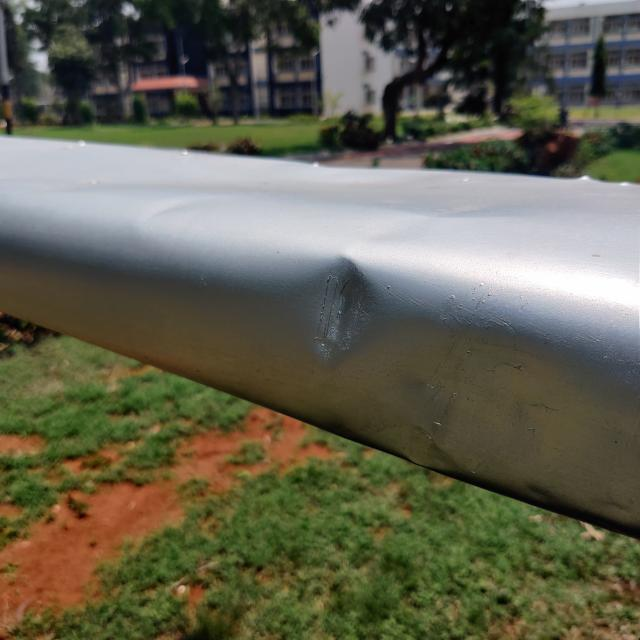dent: (279, 245, 399, 392)
